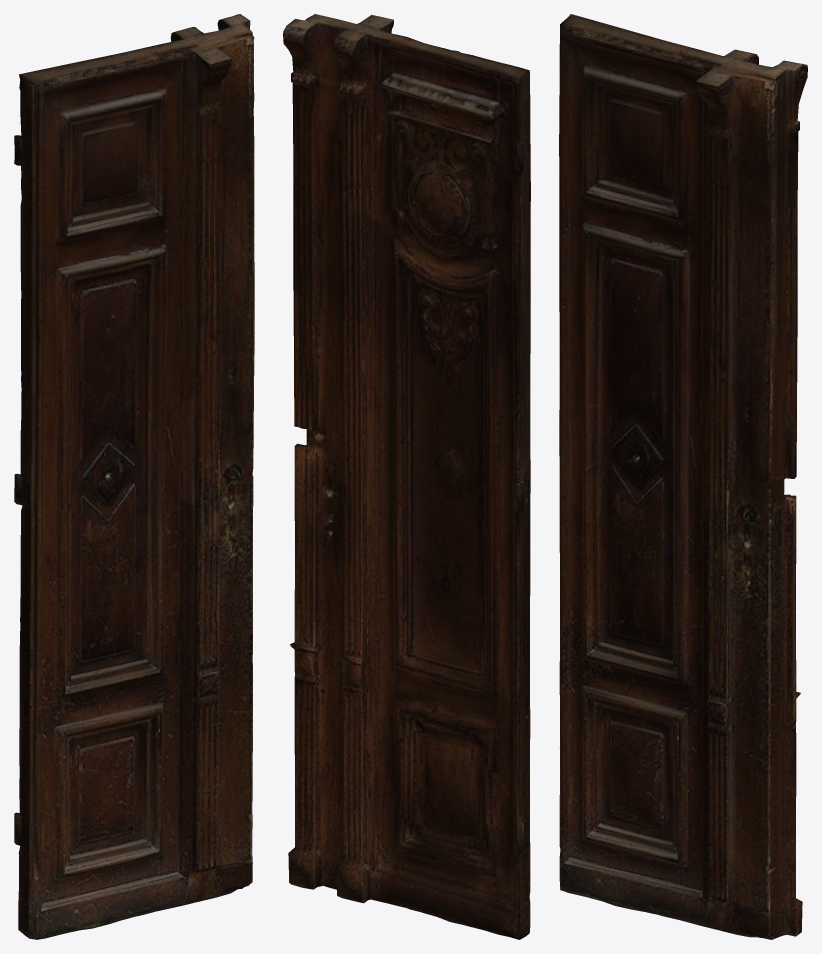
Rendered from door.glb.
3 renders of one model, left to right at view 1: azimuth 30°, elevation 25°; view 2: azimuth 150°, elevation 25°; view 3: azimuth 330°, elevation 25°, orthographic.
Visible parts, largest first — view 1: door_S_Modular_Wooden_Door_ugywdfqdw_lod3_Var1_LOD0; view 2: door_S_Modular_Wooden_Door_ugywdfqdw_lod3_Var1_LOD0; view 3: door_S_Modular_Wooden_Door_ugywdfqdw_lod3_Var1_LOD0.
Boxes of the visible parts, left/top/right/bottom form: door_S_Modular_Wooden_Door_ugywdfqdw_lod3_Var1_LOD0: left=14, top=14, right=254, bottom=939; door_S_Modular_Wooden_Door_ugywdfqdw_lod3_Var1_LOD0: left=283, top=14, right=530, bottom=939; door_S_Modular_Wooden_Door_ugywdfqdw_lod3_Var1_LOD0: left=559, top=14, right=807, bottom=939.
Bounding box in the file's own units: 0.4362 × 1.54 × 0.1378.
Materials: 1 (1 with a texture image).
